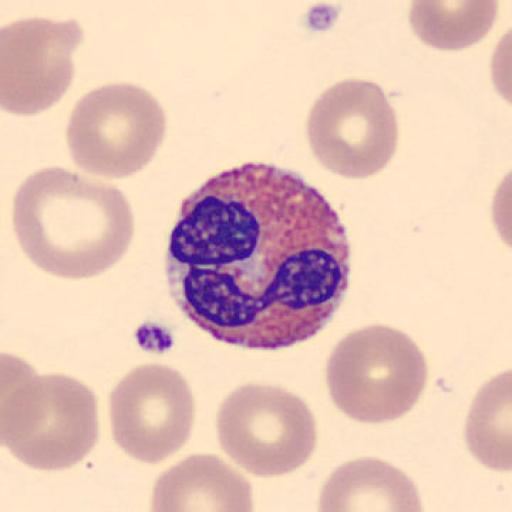RBC: (9, 165, 136, 282), (324, 322, 428, 426), (64, 80, 168, 180), (214, 380, 318, 480), (304, 76, 400, 181), (2, 372, 100, 473), (107, 360, 196, 466), (2, 16, 78, 117), (147, 451, 257, 512), (316, 454, 425, 512), (463, 366, 512, 473), (407, 0, 499, 52), (490, 165, 512, 257), (489, 24, 512, 111), (498, 0, 512, 59)
WBC: (164, 160, 352, 352)
